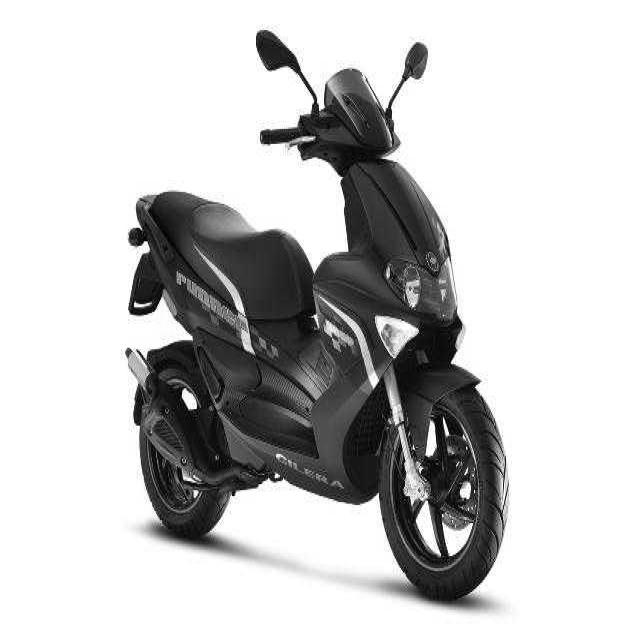Motorcycle: (129, 69, 509, 599)
